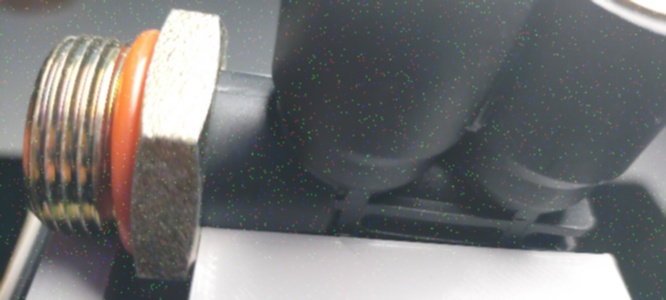joint line: (246, 93, 271, 99)
white mark: (218, 82, 253, 92)
